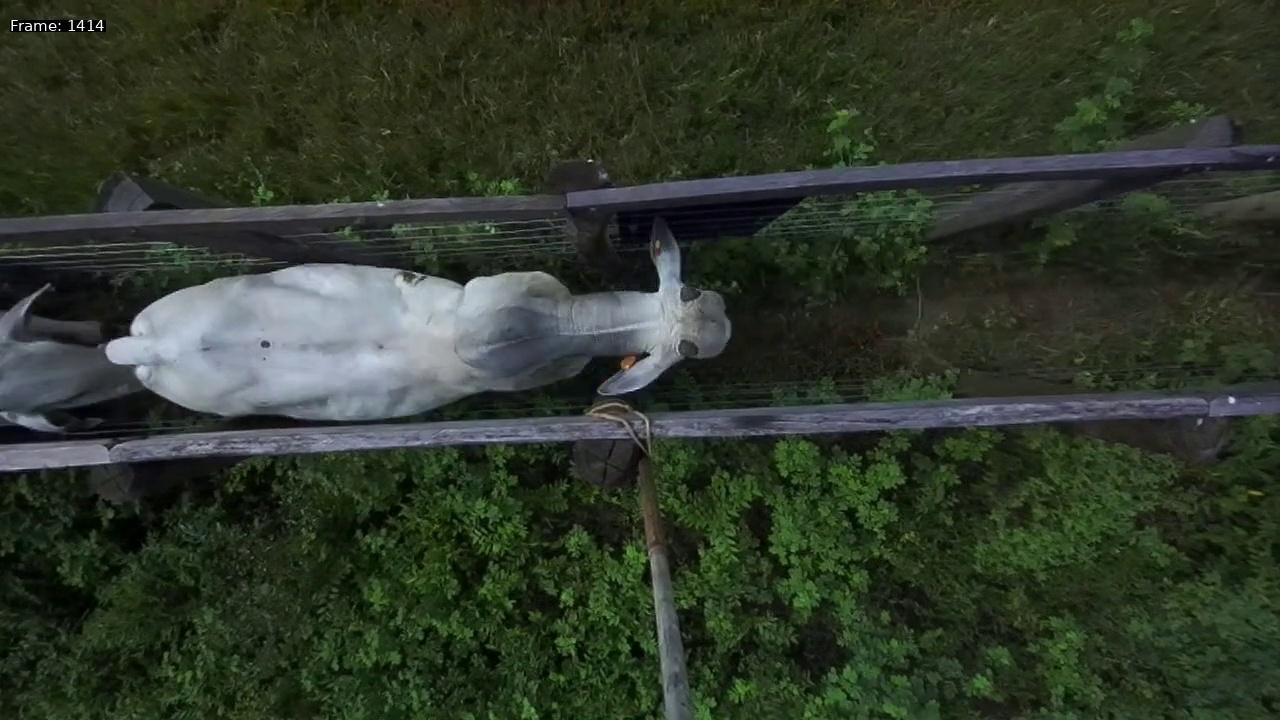cattle: (94, 202, 743, 433)
